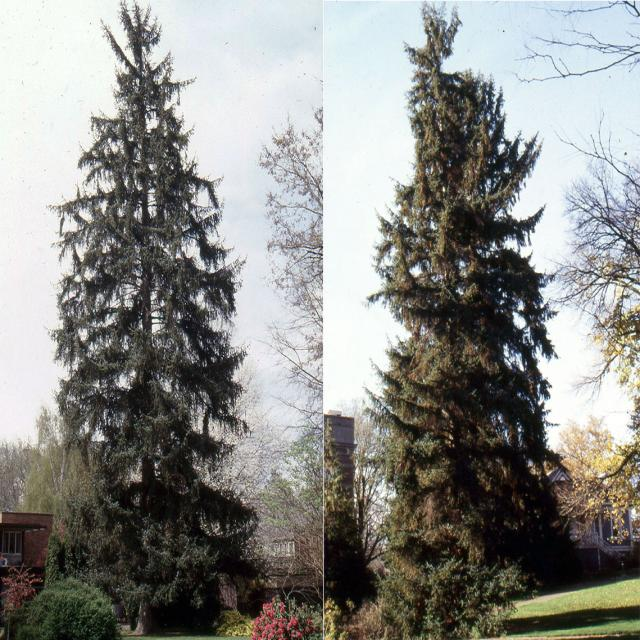Picea sitchensis: (45, 0, 250, 640), (367, 0, 548, 640)
